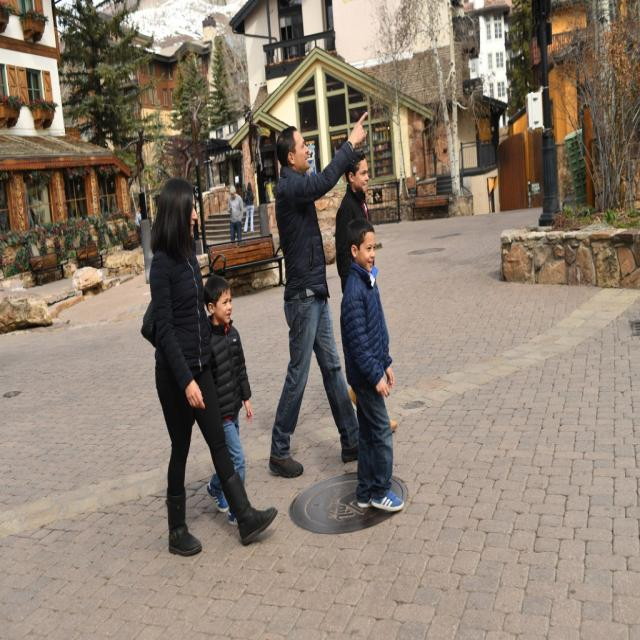body: (139, 173, 279, 559), (267, 109, 376, 484), (339, 216, 405, 516), (334, 150, 399, 434), (202, 274, 254, 527), (226, 185, 245, 244), (241, 179, 255, 234), (134, 204, 142, 231)
